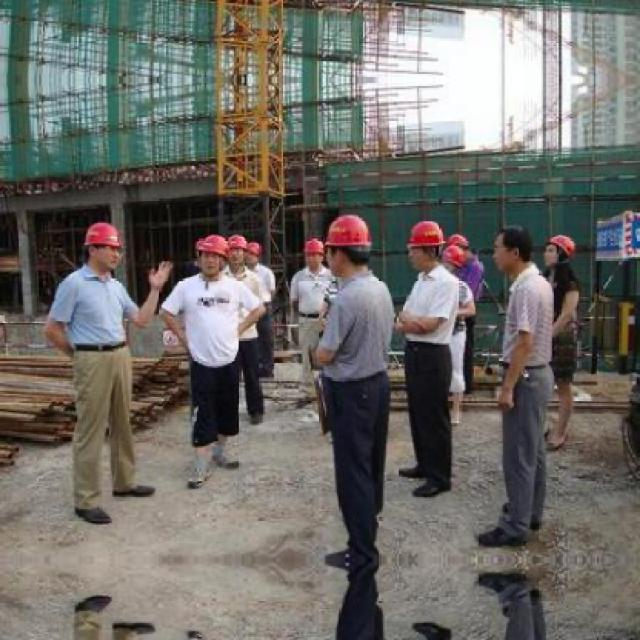con casco: (64, 220, 151, 274), (317, 210, 380, 283), (400, 208, 464, 276), (486, 228, 536, 286), (195, 220, 237, 282), (226, 224, 270, 262)
